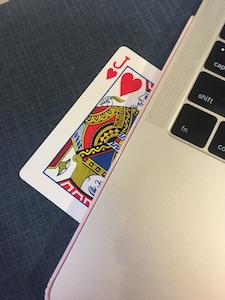JackOfHearts: (18, 42, 163, 227)
